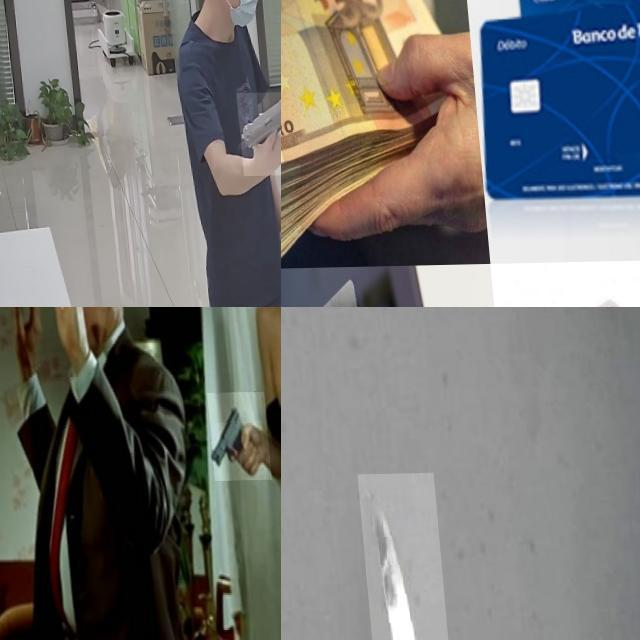-: (353, 474, 457, 640)
gun-knife-thesis - v11 Yolov5 augmented: (201, 394, 264, 483), (232, 93, 281, 177)
